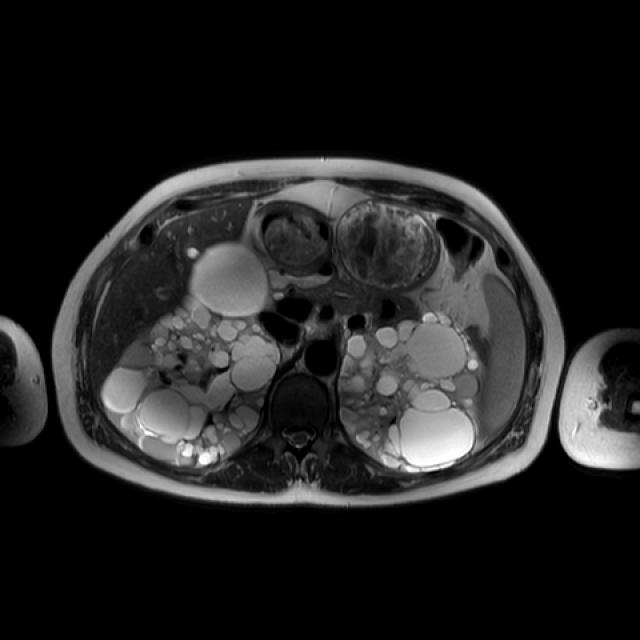sag: (102, 243, 281, 464)
sol: (340, 310, 481, 473)
